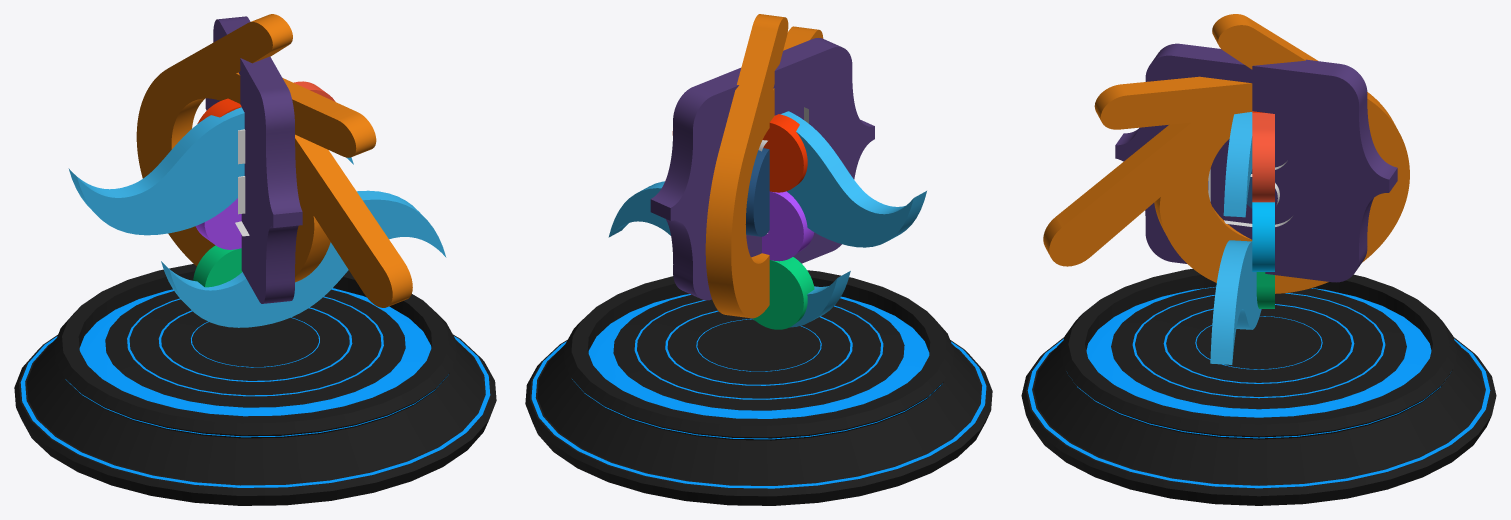
File: figma.gltf
3 renders of one model, left to right at view 1: azimuth 30°, elevation 25°; view 2: azimuth 150°, elevation 25°; view 3: azimuth 270°, elevation 25°, orthographic. The views are drawn at different scales.
Parts seen in each view (by area): view 1: Circle, Layer_001.001, Curve, Curve.001, path0_fill; view 2: Circle, Curve.001, Layer_001.001, Curve, path0_fill; view 3: Circle, Layer_001.001, Curve.001, Curve, path0_fill.
Boxes of the visible parts, x1,y1,x2,y2 form: Circle: (14,264,496,505); Layer_001.001: (136,14,412,307); Curve: (68,107,446,327); Curve.001: (205,16,302,303); path0_fill: (193,81,335,287); Circle: (525,270,992,505); Curve.001: (650,38,874,300); Layer_001.001: (705,14,823,318); Curve: (608,111,926,327); path0_fill: (672,114,814,329); Circle: (1021,269,1496,505); Layer_001.001: (1043,14,1409,293); Curve.001: (1115,43,1397,282); Curve: (1210,112,1261,364); path0_fill: (1252,111,1274,308).
Size of the model in its own units: 1.91 by 1.73 by 1.91.
